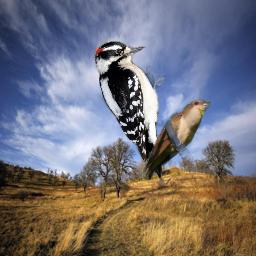Cuckoo: (140, 99, 211, 182)
Woodpecker: (95, 41, 165, 180)
